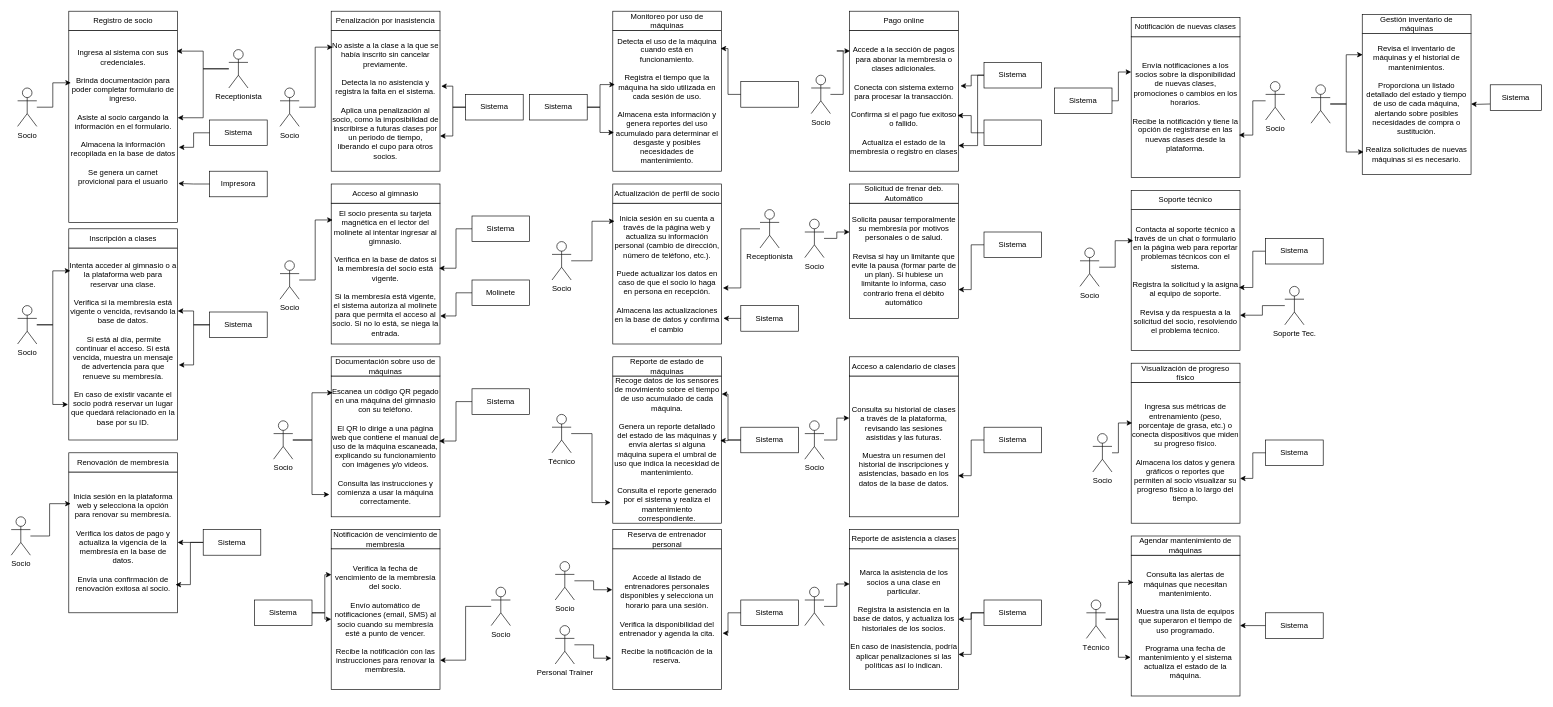
The diagram is 1553 pixels wide and 707 high, and some of its shapes have lost their labels. Each missing label, with the centre of its shape:
Administrador: the point at 1320,103
Instructor: the point at 814,606
Sensor de mov.: the point at 769,94
Sistema Externo (Ej: Mercadopago): the point at 1012,132
